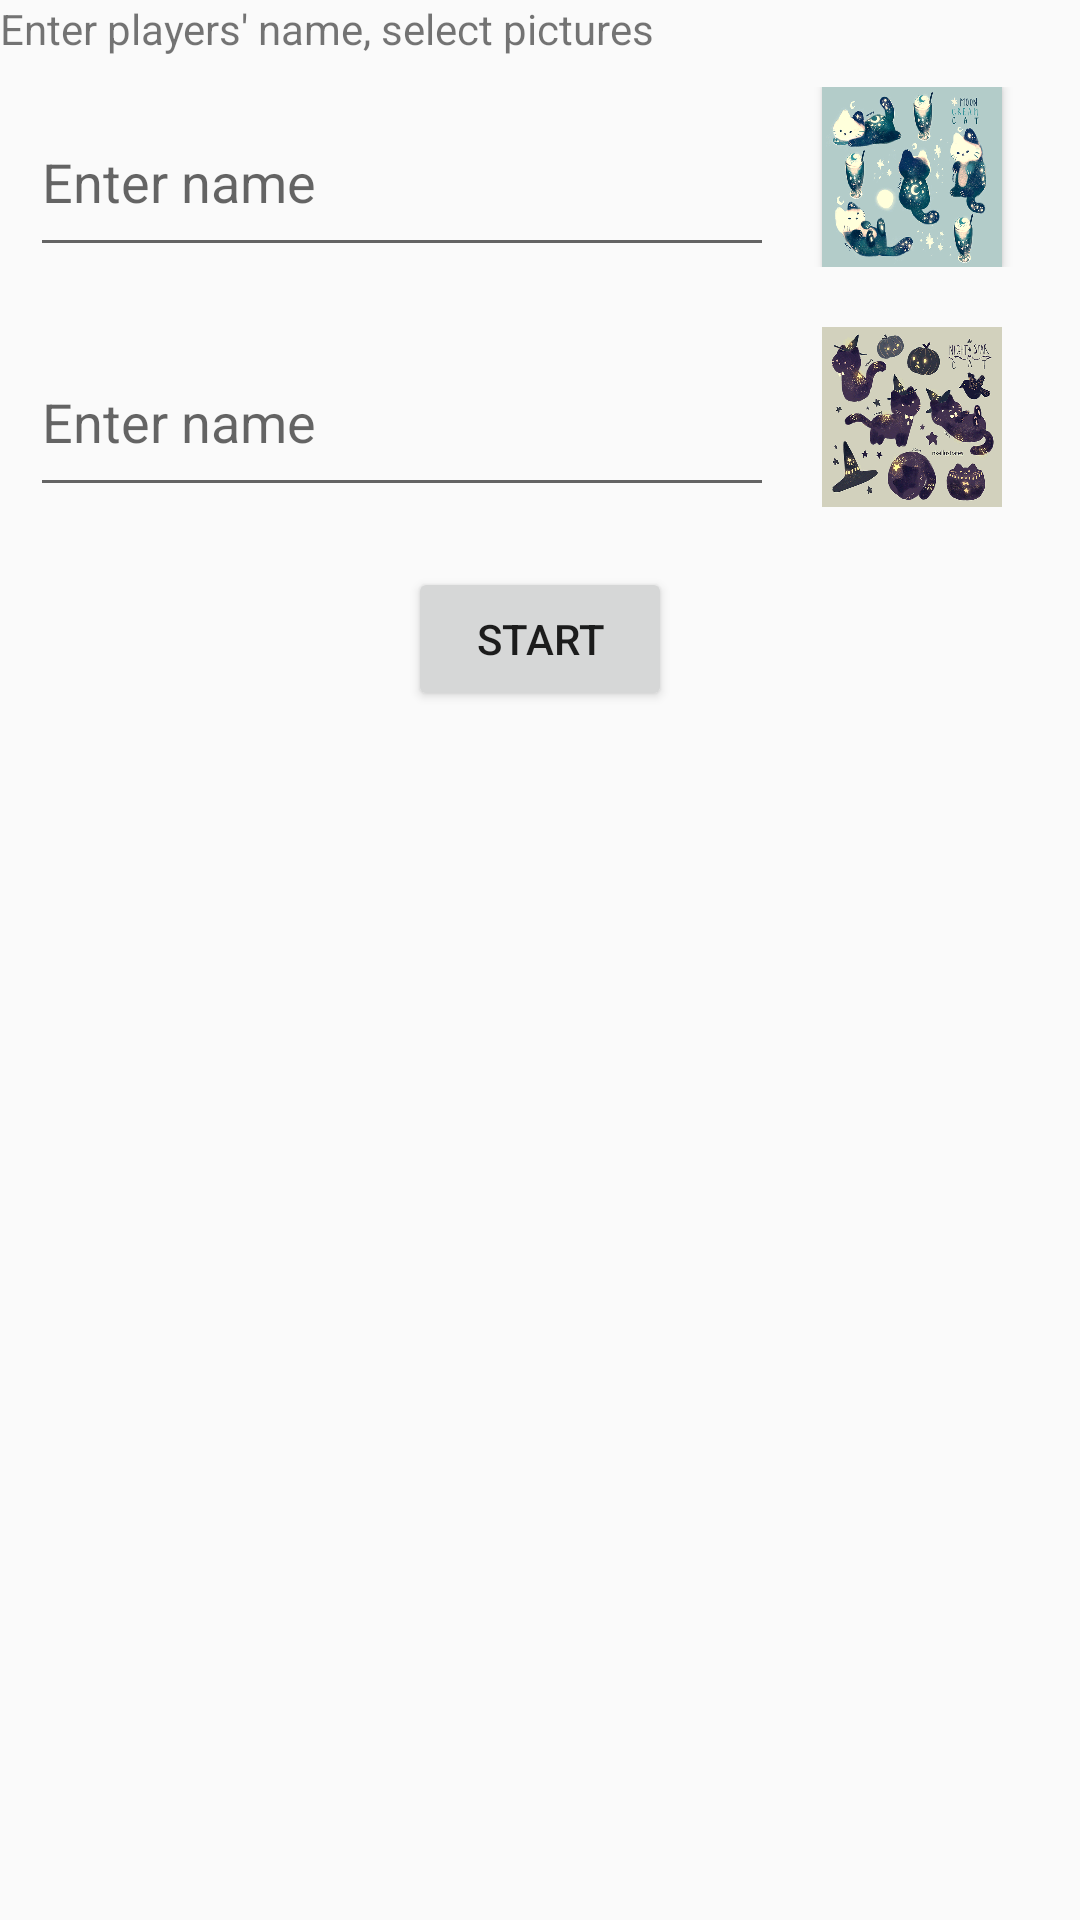

Icons on this 1080w x 1920h Android screen, each with the point to tap as [x,y]:
night star cat: [912,417]
